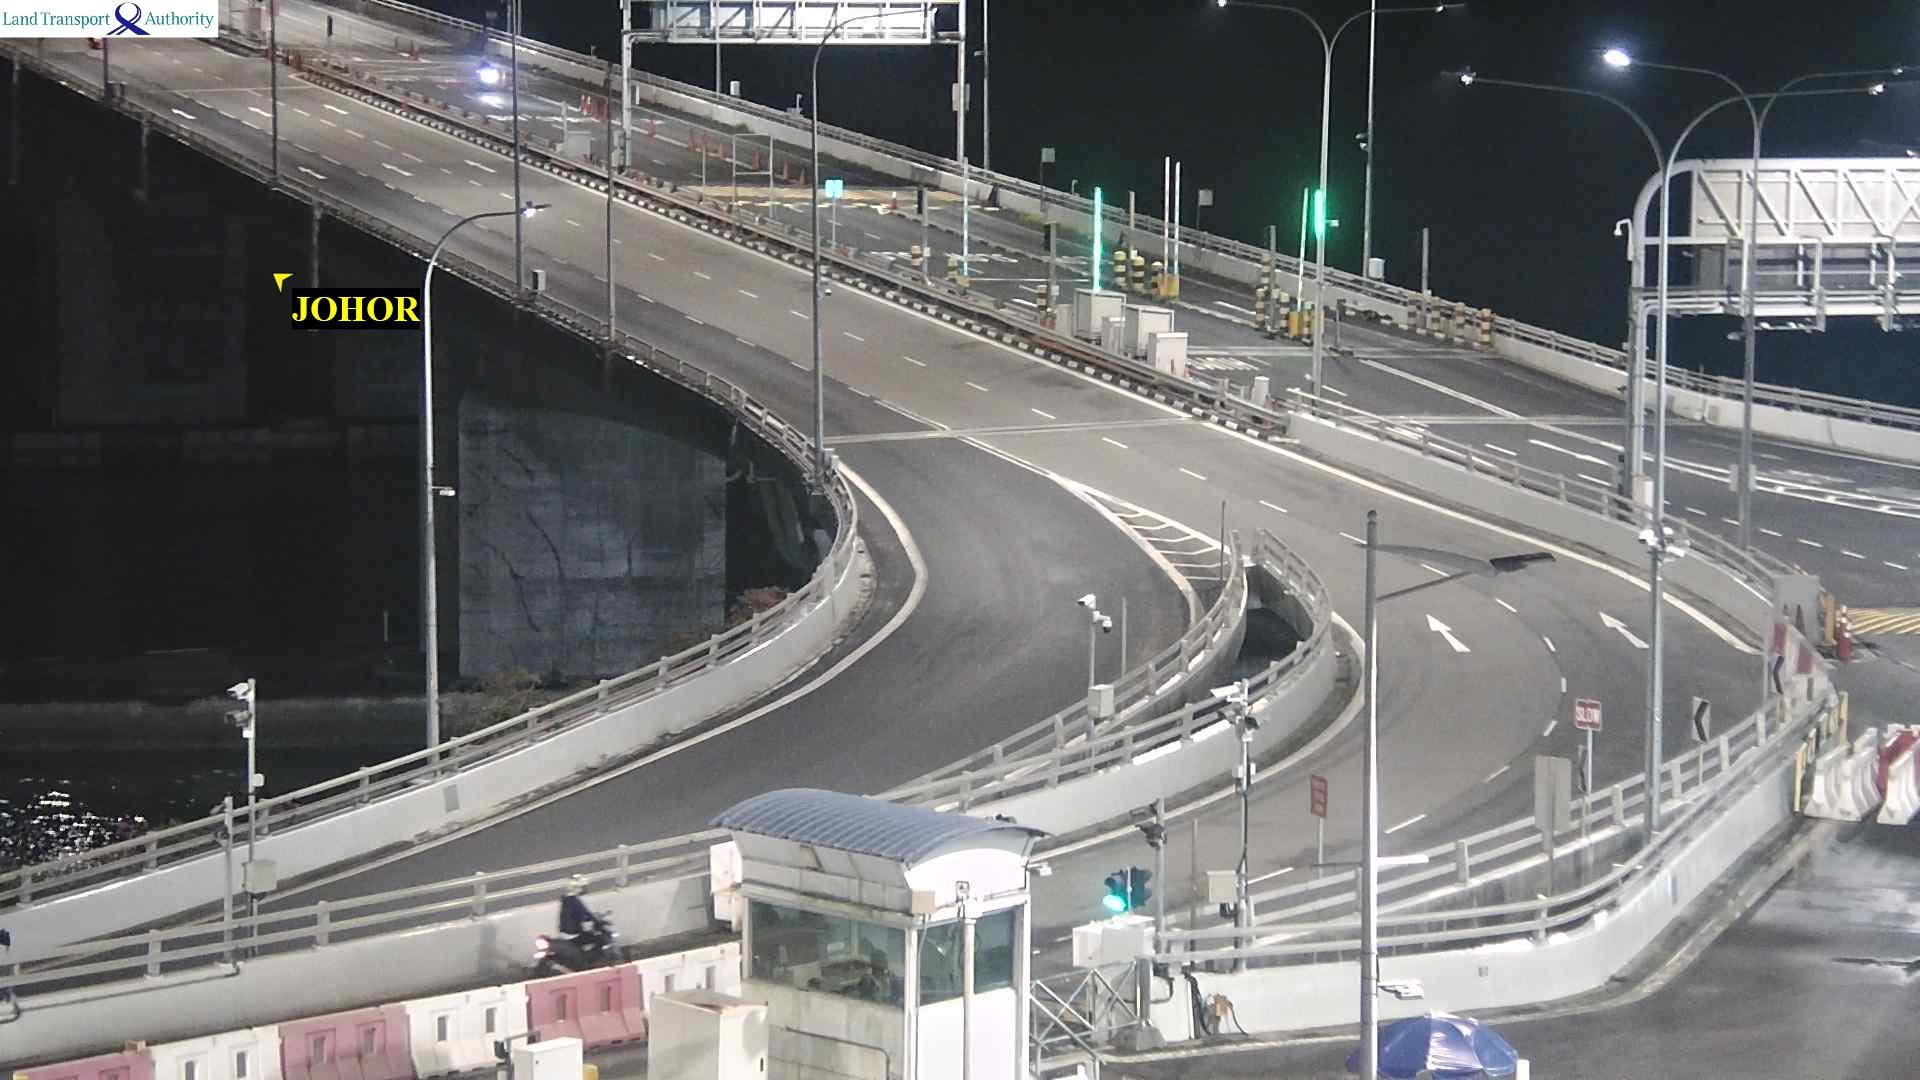vehicle-secondlink-johor: (543, 890, 620, 972)
